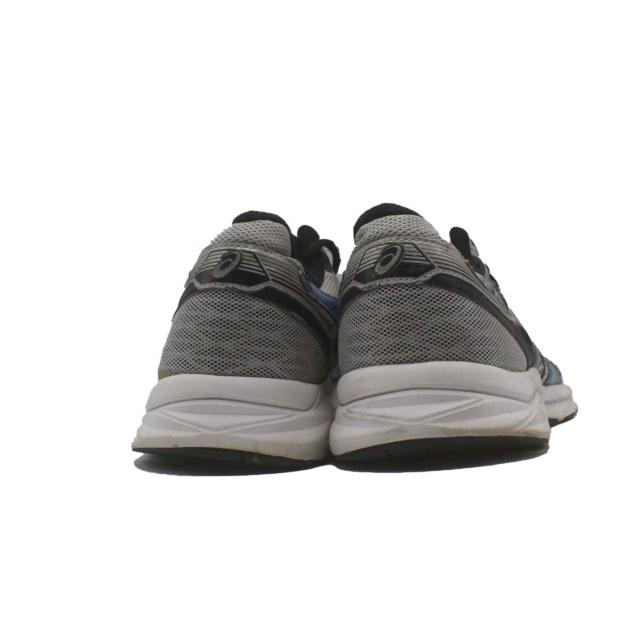heel: (337, 208, 515, 374), (157, 213, 333, 379)
midsole: (328, 361, 575, 457), (129, 375, 331, 461)
